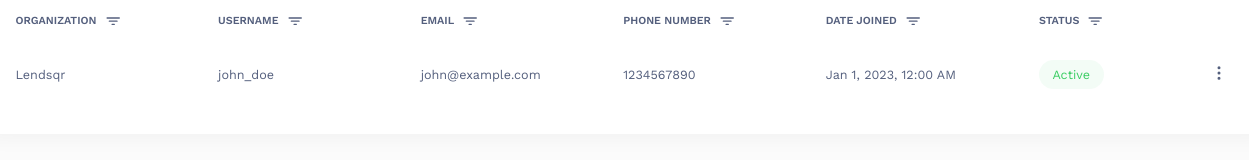
it: Table Component › toggles action menu when action button is clicked
Click the button. click: click(1219, 74)
box: [1206,59,1232,89]
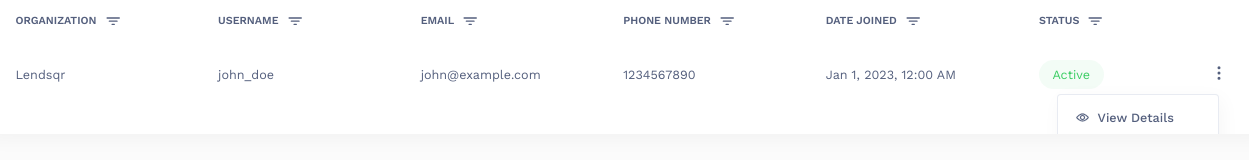
Now the button "View Details" is shown, box [1058,99,1218,134]
Clicking it again should close it
Click the 1st button. click: click(1219, 74)
box: [1206,59,1232,89]
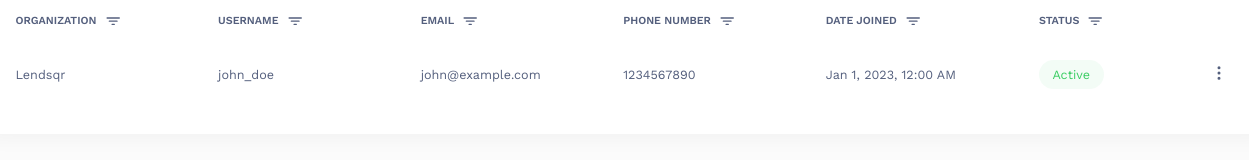
Now the button "View Details" is gone
